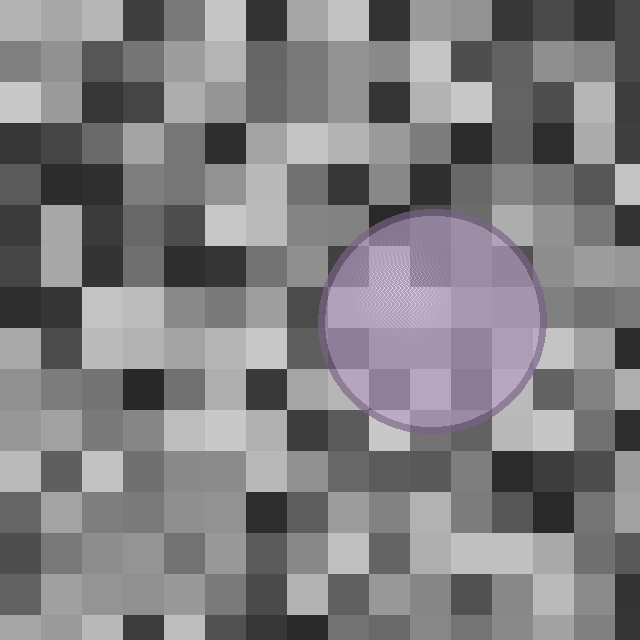lens: (321, 212, 543, 430)
